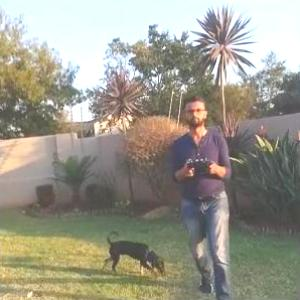follow: (168, 89, 233, 299)
null: (98, 228, 169, 280)
